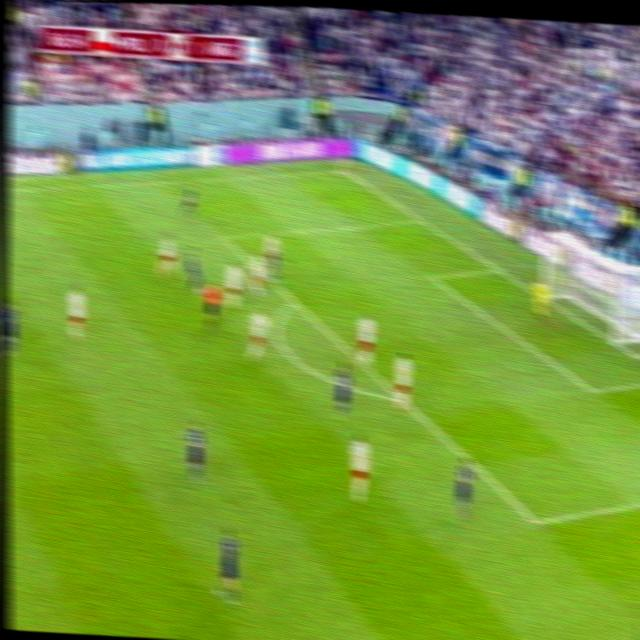bigarea_bottom_inner: (528, 513, 542, 530)
bigarea_top_inner: (218, 233, 229, 243)
bigarea_top_outter: (414, 216, 426, 225)
corner: (337, 166, 348, 178)
smallarea_bottom_inner: (584, 382, 598, 398)
smallarea_top_inner: (423, 270, 441, 285)
smallarea_top_outter: (492, 265, 503, 277)
top_arc_area_intersection: (286, 294, 301, 308)
